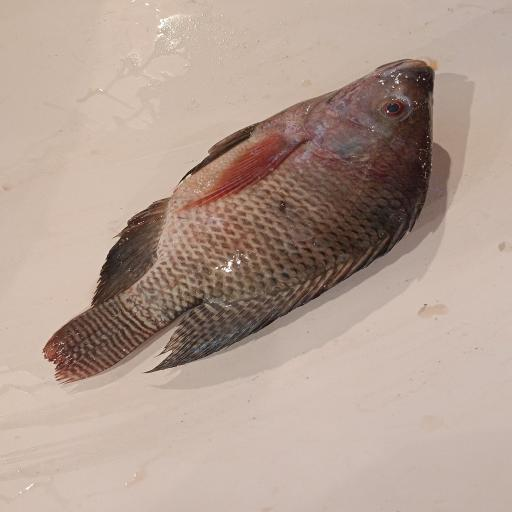Tilapia: (42, 59, 436, 386)
